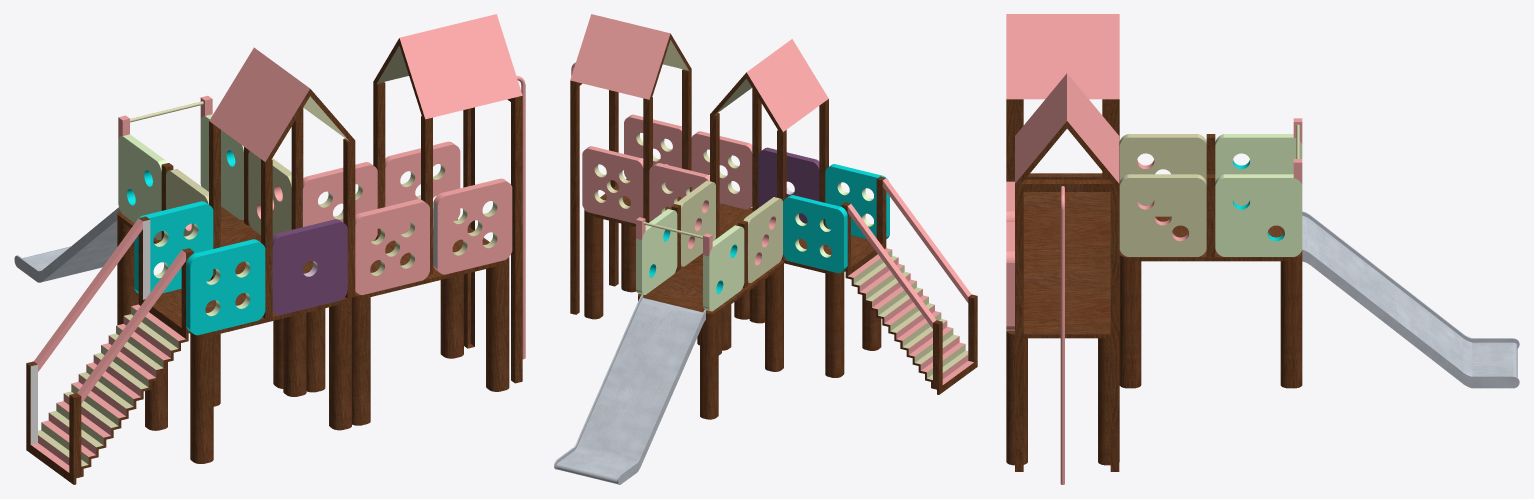
Rendered from playground.glb.
3 views of the same model, side by side, from view 1: azimuth 30°, elevation 25°; view 2: azimuth 150°, elevation 25°; view 3: azimuth 270°, elevation 25° (orthographic). The views are drawn at different scales.
Parts seen in each view (by area): view 1: Geom3D (×20), Geom3D_Component#7 (×11), Geom3D_Component#9 (×6), Geom3D_Component#24, Geom3D_Component#5 (×3), Geom3D_Component#22; view 2: Geom3D (×18), Geom3D_Component#7 (×7), Geom3D_Component#9 (×6), Geom3D_Component#5 (×3), Geom3D_Component#24; view 3: Geom3D (×11), Geom3D_Component#5 (×3), Geom3D_Component#7 (×4), Geom3D_Component#24, Geom3D_Component#3, Geom3D_Component#9.
Boxes of the visible parts, box(x1,y1,x2,y2) form: Geom3D (×20): box(14, 14, 525, 484); Geom3D_Component#7 (×11): box(117, 218, 509, 463); Geom3D_Component#9 (×6): box(209, 81, 432, 318); Geom3D_Component#24: box(463, 95, 522, 383); Geom3D_Component#5 (×3): box(117, 206, 509, 337); Geom3D_Component#22: box(30, 219, 150, 444); Geom3D (×18): box(554, 14, 977, 484); Geom3D_Component#7 (×7): box(584, 213, 881, 419); Geom3D_Component#9 (×6): box(643, 69, 828, 259); Geom3D_Component#5 (×3): box(584, 178, 871, 316); Geom3D_Component#24: box(570, 80, 618, 314); Geom3D (×11): box(1006, 14, 1519, 484); Geom3D_Component#5 (×3): box(1006, 179, 1302, 338); Geom3D_Component#7 (×4): box(1006, 259, 1302, 465); Geom3D_Component#24: box(1015, 180, 1119, 471); Geom3D_Component#3: box(1206, 174, 1215, 256); Geom3D_Component#9: box(1006, 99, 1014, 181).
Bounding box in the file's own units: 15.62 × 11.1 × 14.51.
Materials: 8 (2 with a texture image).
